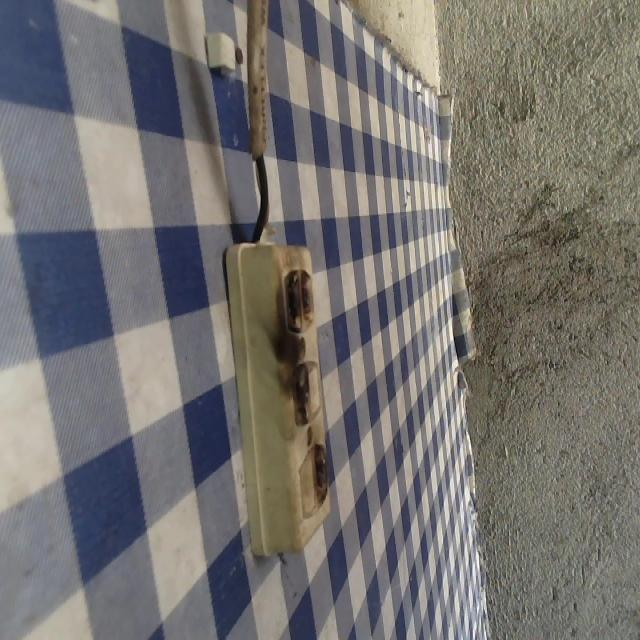-: (274, 261, 325, 343), (281, 360, 315, 437), (308, 438, 337, 514)
